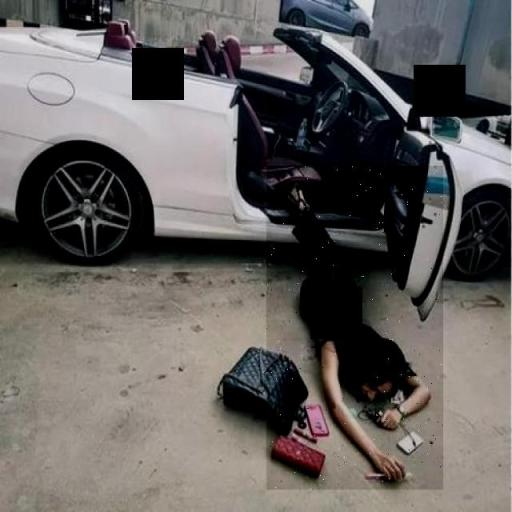Fall: (267, 166, 444, 490)
